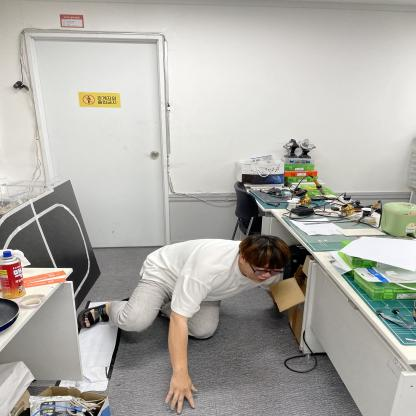fall: (85, 230, 291, 405)
